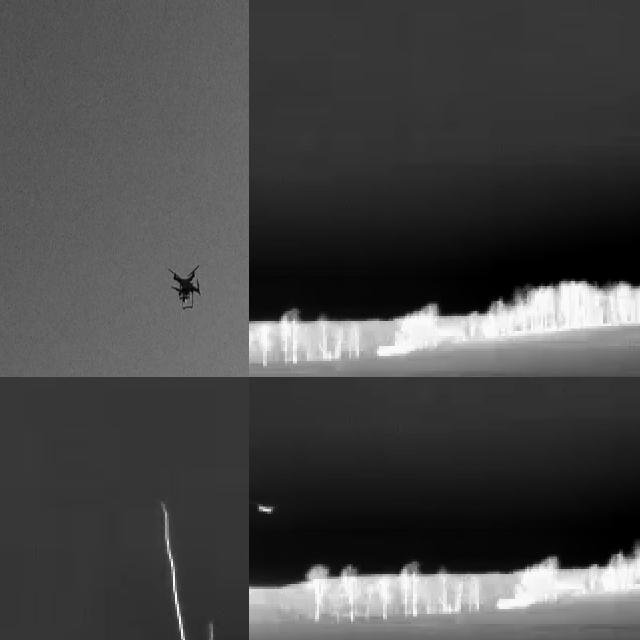1: (249, 496, 283, 529)
drone: (168, 258, 206, 308)
